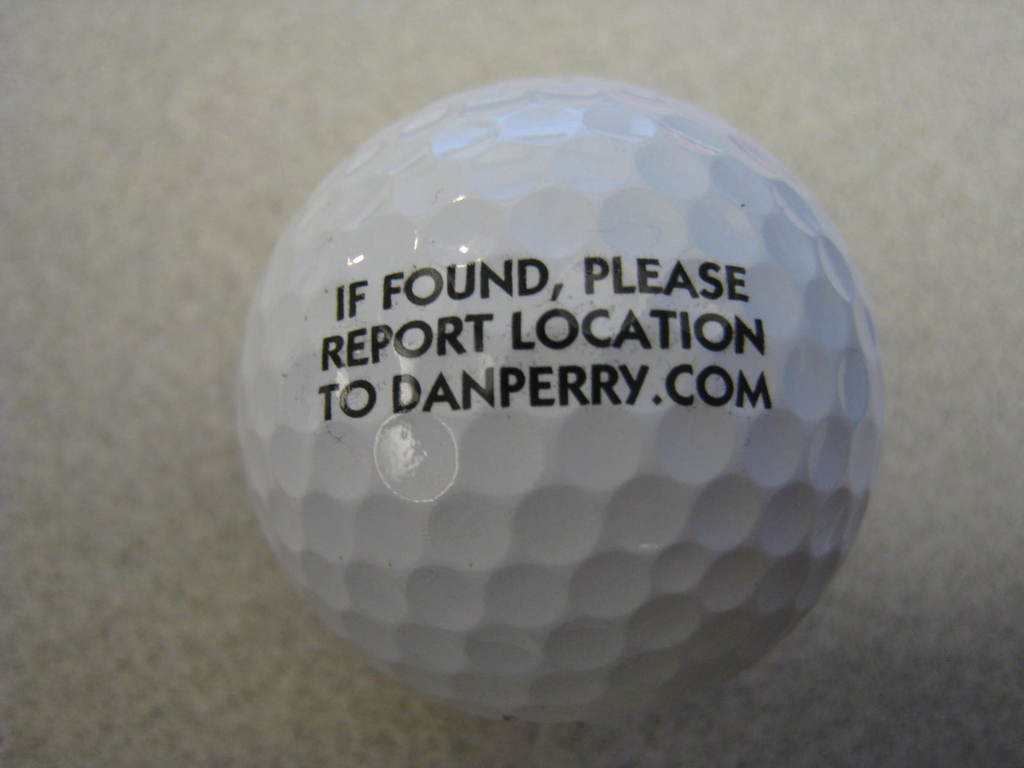Ball: (238, 76, 883, 726)
